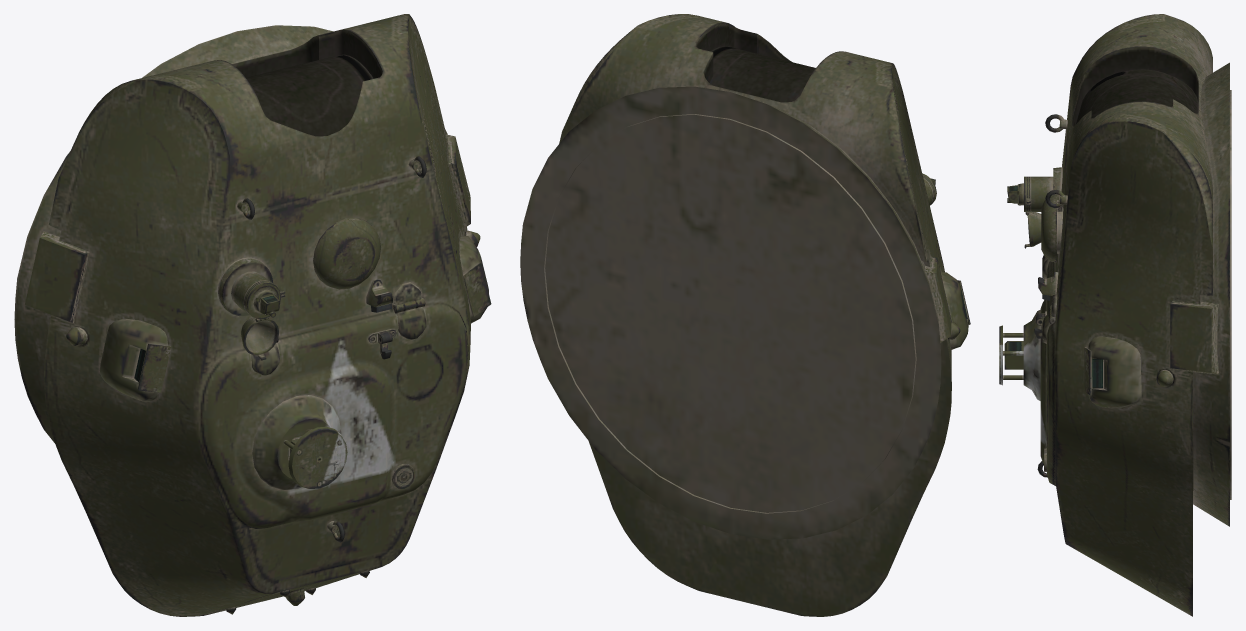
File: Turret_01.glb
The picture shows the model from 3 angles, left to right: view 1: azimuth 30°, elevation 25°; view 2: azimuth 150°, elevation 25°; view 3: azimuth 270°, elevation 25°; orthographic projection. The views are drawn at different scales.
Parts seen in each view (by area): view 1: set_0_group_0; view 2: set_0_group_0; view 3: set_0_group_0.
Part boxes in pixels (x1=…): set_0_group_0: x1=14, y1=14, x2=491, y2=616; set_0_group_0: x1=520, y1=14, x2=970, y2=616; set_0_group_0: x1=999, y1=14, x2=1231, y2=616.
Size of the model in its own units: 1.77 by 2.16 by 0.8833.
Materials: 1 (1 with a texture image).
